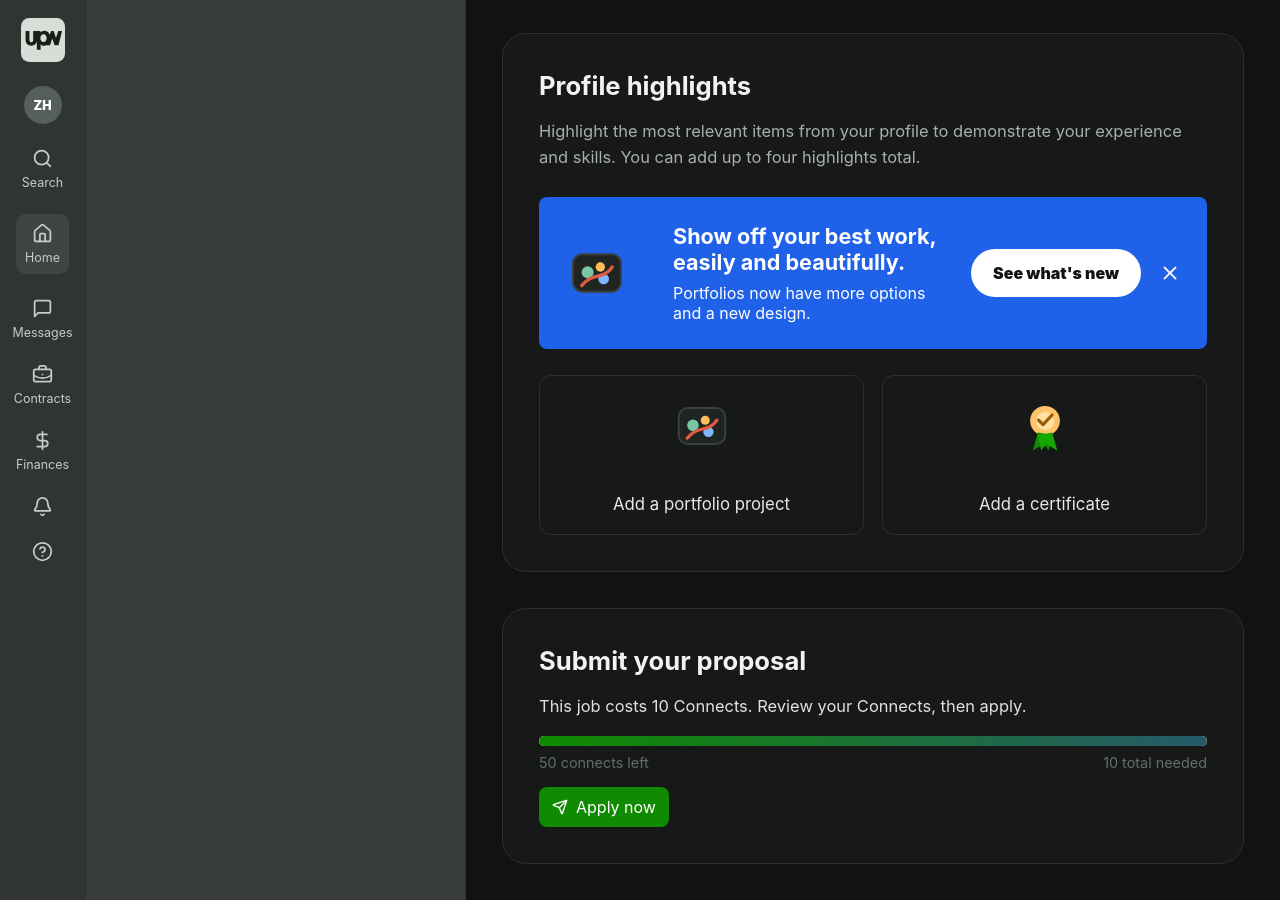
Scenario: candidate integration flow › shows test-only notices for portfolio and certificate actions
(page scrolled)
Step 1. Click the button "Add a portfolio project" → (702, 454), box [539,374,864,534]
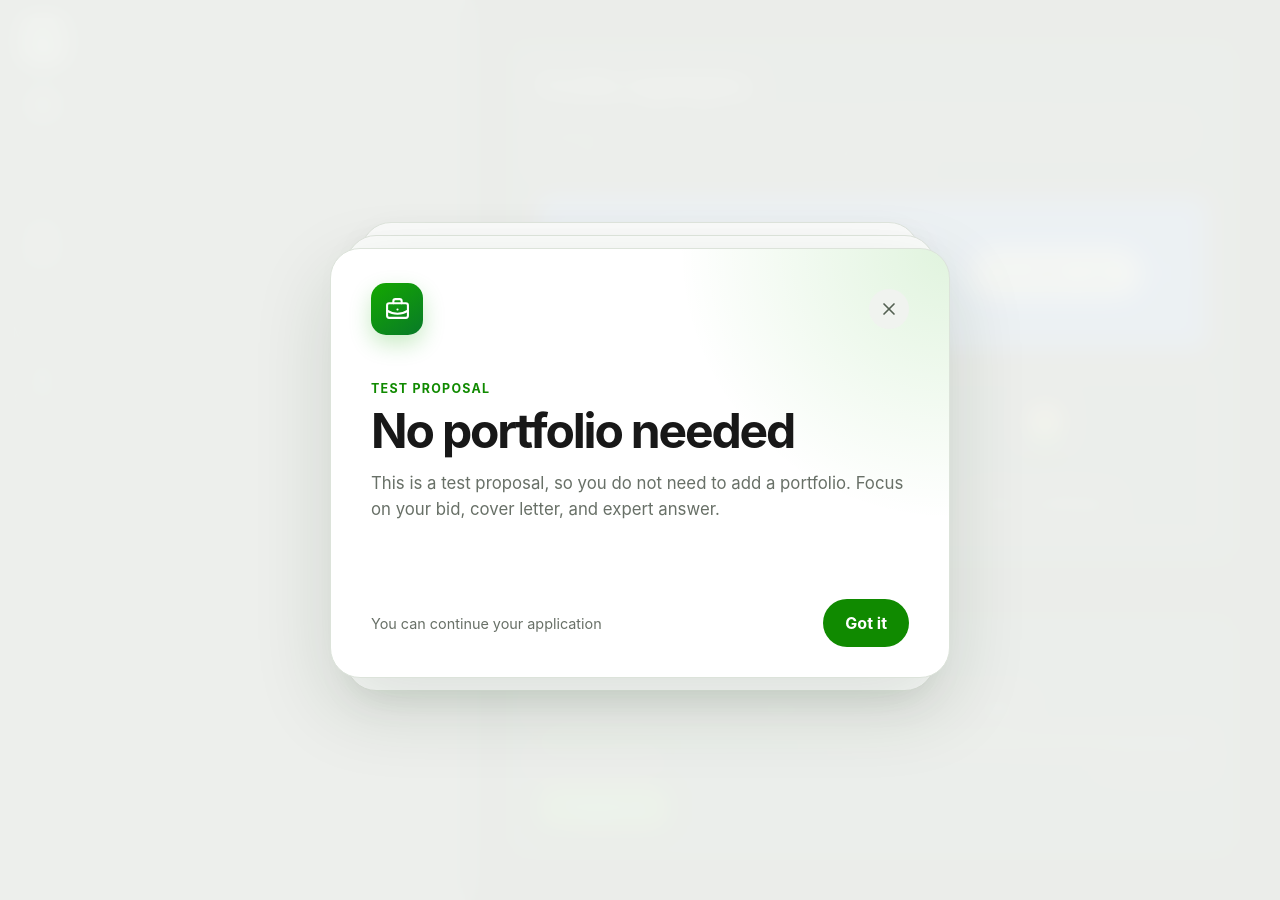
Expected: the heading "No portfolio needed" is shown, [371,406,811,456]
Step 2. Click the button "Got it" → (866, 623), box [823,599,909,647]
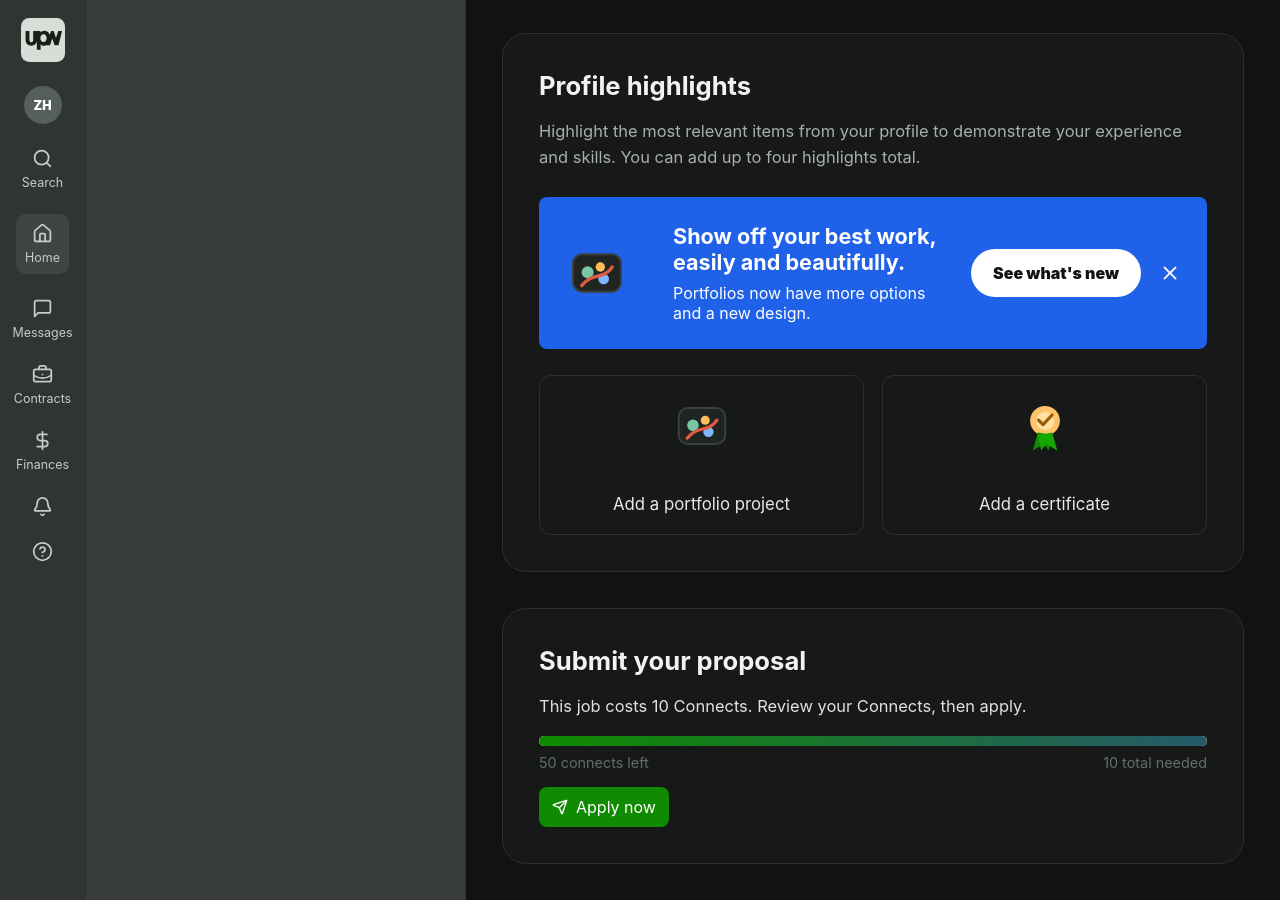
Step 3. Click the button "Add a certificate" → (1044, 454), box [882,374,1207,534]
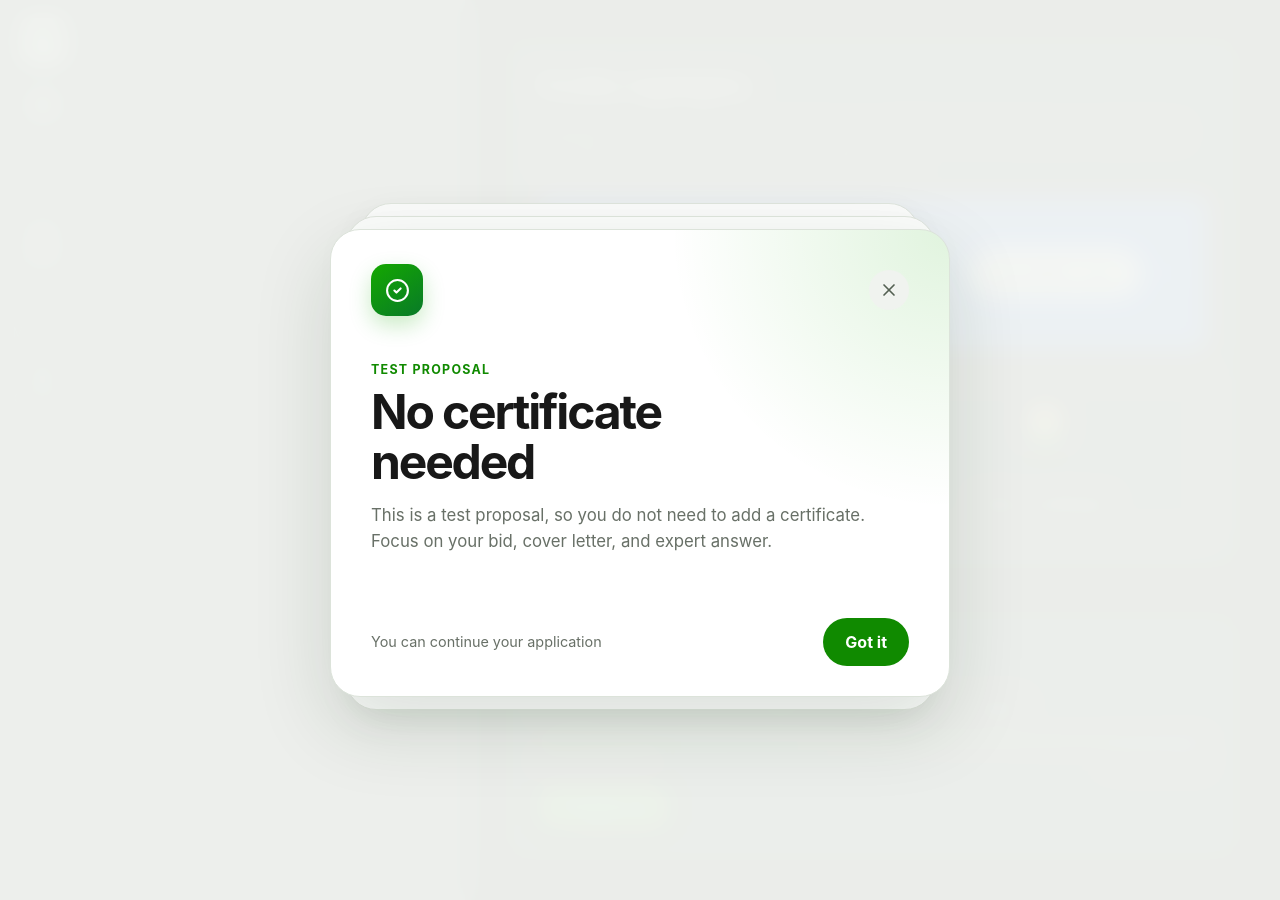
Expected: the heading "No certificate needed" is shown, [371,382,661,492]
